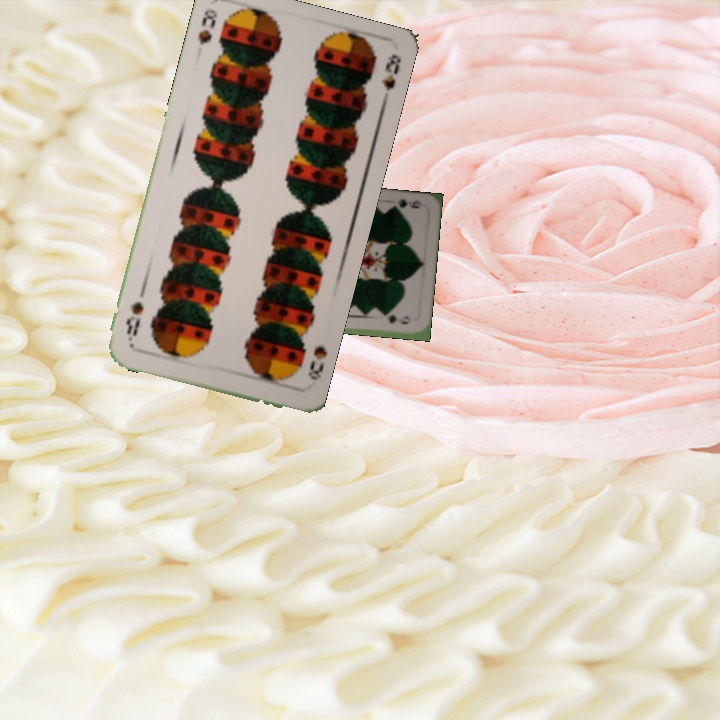G9: (385, 195, 423, 213)
S8: (194, 5, 220, 48), (304, 341, 330, 383)
